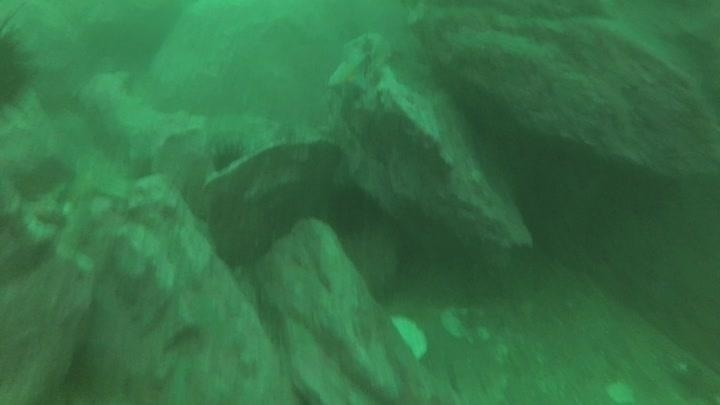echinus: (323, 181, 379, 239), (1, 26, 36, 114), (207, 140, 248, 177)
scallop: (385, 312, 431, 366), (601, 378, 637, 405)
starfish: (326, 52, 374, 101)
